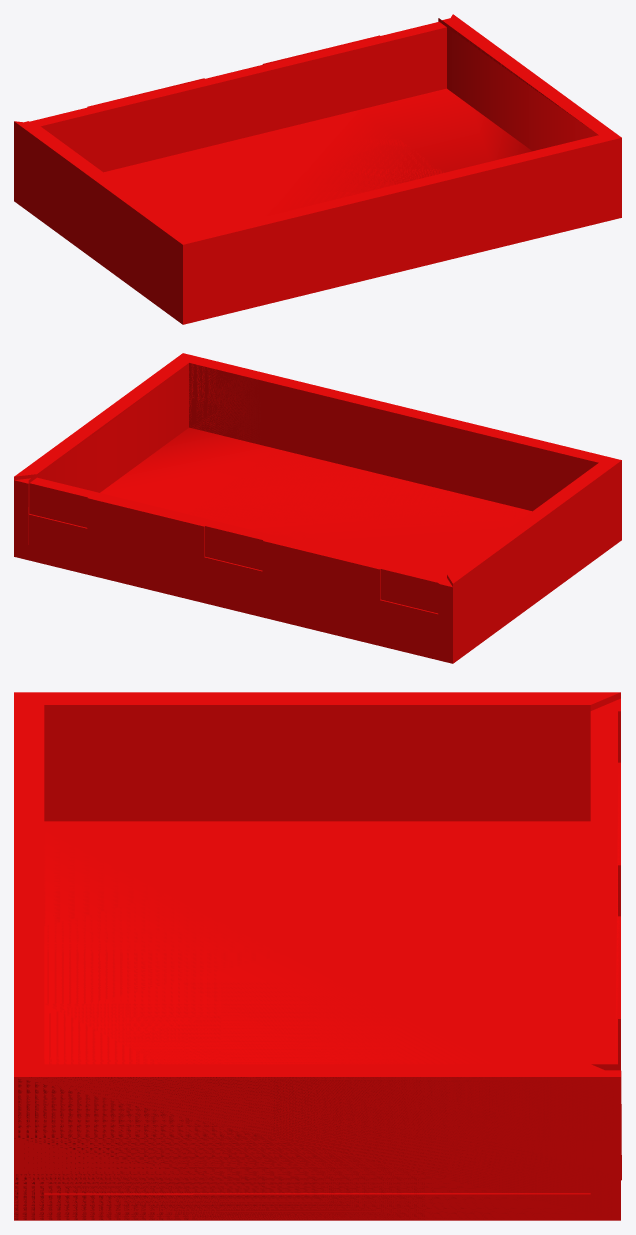
The model's file is original-57-new.obj.
The picture shows the model from 3 angles, top to bottom: view 1: azimuth 30°, elevation 25°; view 2: azimuth 150°, elevation 25°; view 3: azimuth 270°, elevation 25°; orthographic projection. The views are drawn at different scales.
Visible parts, largest first — view 1: #ID396; view 2: #ID396; view 3: #ID396.
Boxes of the visible parts, left/top/right/bottom form: #ID396: left=14, top=14, right=621, bottom=324; #ID396: left=14, top=353, right=621, bottom=663; #ID396: left=14, top=692, right=621, bottom=1220.
Bounding box in the file's own units: 1.3 × 0.2264 × 0.8677.
